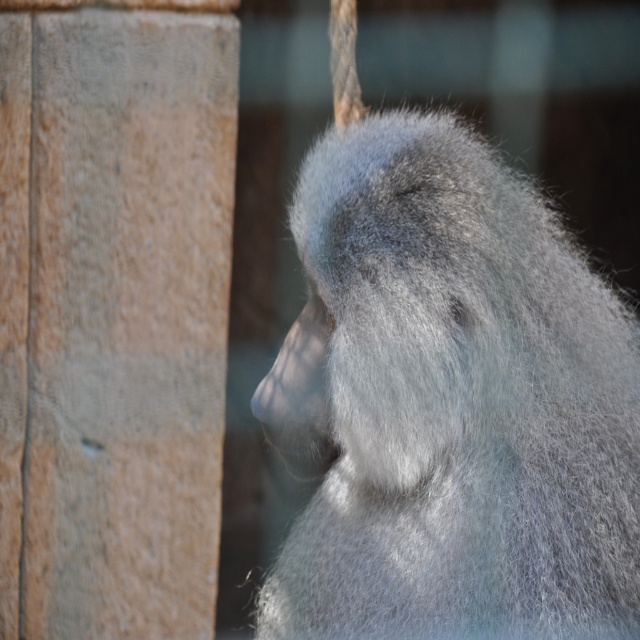Monkey: (235, 63, 631, 640)
